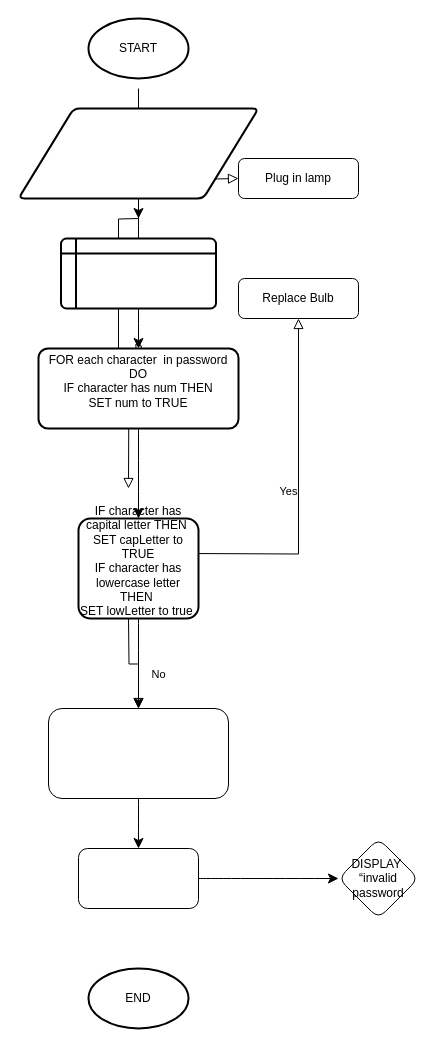
Image size: 436x1046. Some labels were removed from this diagram. Here are the shapes that lost their labels. From the top down, the centre of each, then its label:
At point 138,153: "IF password length < 8 THEN DISPLAY “invalid password".
At point 138,273: "Set num to FALSE SET capLetter FALSE SET lowLetter FALSE".
At point 138,753: "IF num and capLetter and lowLetter THEN DISPLAY “valid password” ELSE".
At point 138,878: "else".
